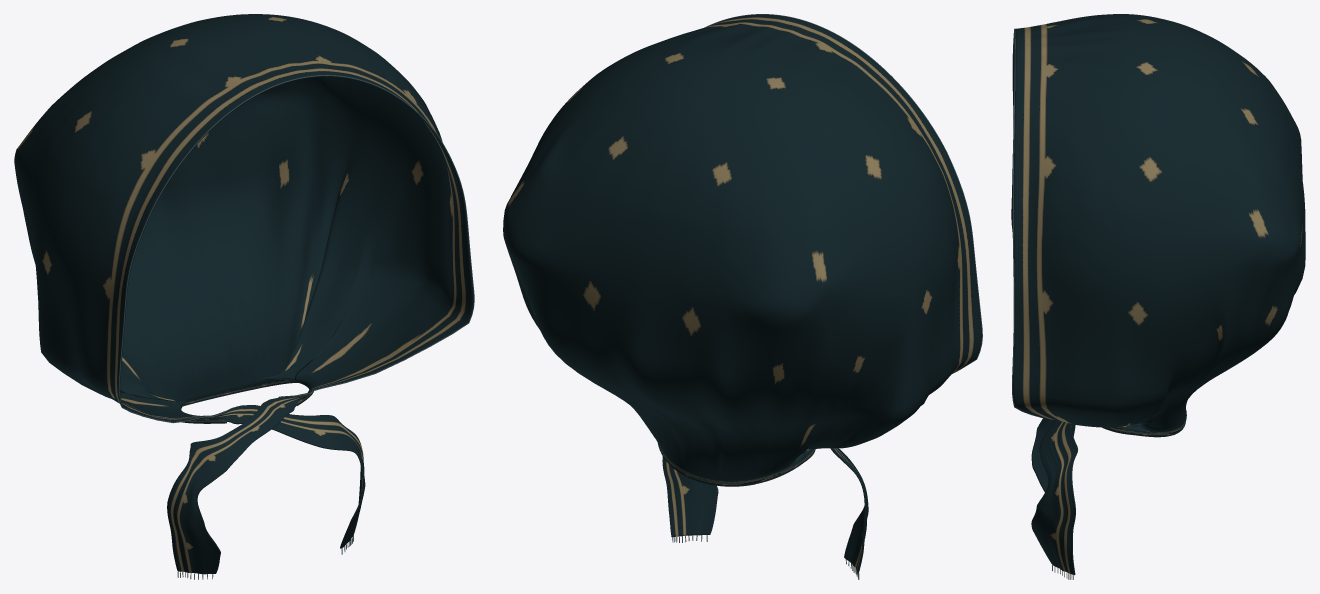
Rendered from Feminine-space-buns-triangle-pashmina249-headgear.glb.
3 views of the same model, side by side, from view 1: azimuth 30°, elevation 25°; view 2: azimuth 150°, elevation 25°; view 3: azimuth 270°, elevation 25° (orthographic). The views are drawn at different scales.
Parts seen in each view (by area): view 1: 226 headgear / Headwear / continuous woven pashmina239, 226 headgear / Headwear / face edge239; view 2: 226 headgear / Headwear / continuous woven pashmina239, 226 headgear / Headwear / face edge239; view 3: 226 headgear / Headwear / continuous woven pashmina239, 226 headgear / Headwear / face edge239.
Part boxes in pixels (x1=…): 226 headgear / Headwear / continuous woven pashmina239: x1=14, y1=14, x2=473, y2=574; 226 headgear / Headwear / face edge239: x1=118, y1=75, x2=474, y2=423; 226 headgear / Headwear / continuous woven pashmina239: x1=503, y1=14, x2=981, y2=573; 226 headgear / Headwear / face edge239: x1=704, y1=14, x2=982, y2=373; 226 headgear / Headwear / continuous woven pashmina239: x1=1011, y1=14, x2=1305, y2=575; 226 headgear / Headwear / face edge239: x1=1011, y1=28, x2=1053, y2=419.
Size of the model in its own units: 1.05 by 1.36 by 0.7241.
3 materials, 1 textured.
